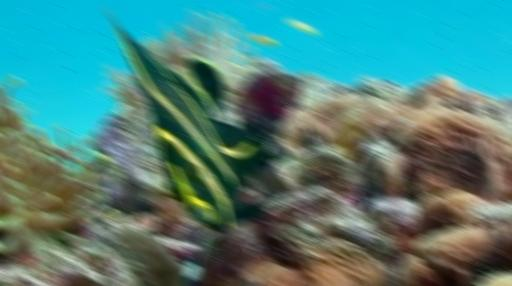Fish: (106, 11, 273, 230)
